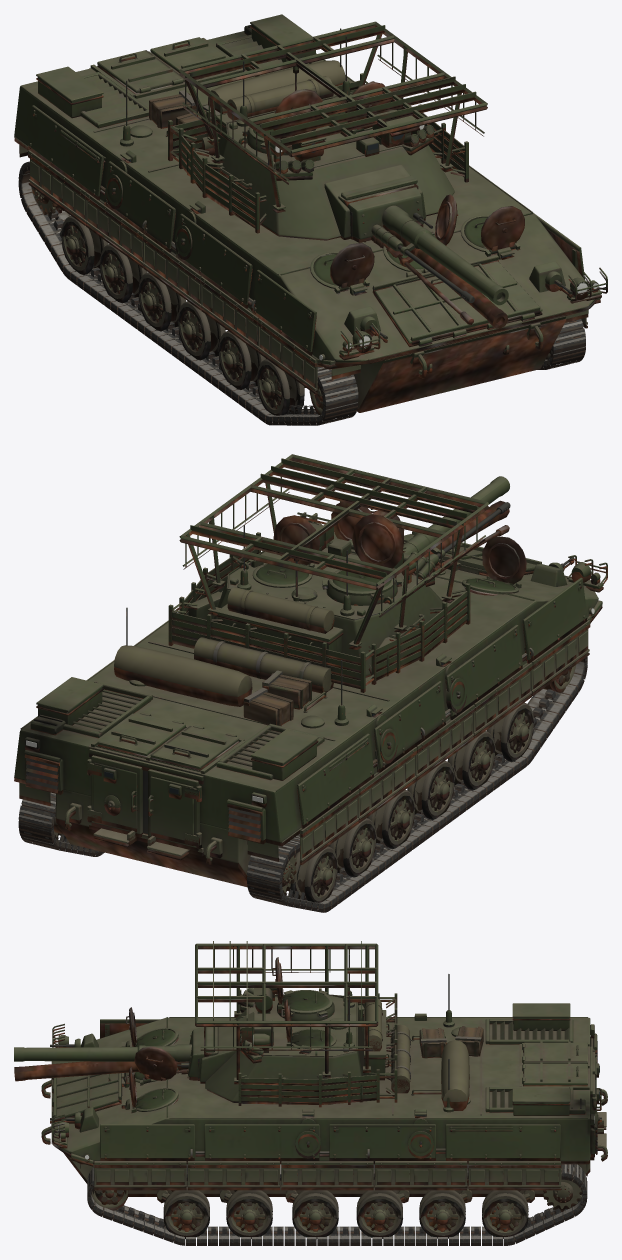
Rendered from bmp3.glb.
3 views of the same model, one above another, from view 1: azimuth 30°, elevation 25°; view 2: azimuth 150°, elevation 25°; view 3: azimuth 270°, elevation 25° (orthographic). The views are drawn at different scales.
Parts seen in each view (by area): view 1: hull_geo, hull_wreck, turret_wreck, turret_geo, side_screens, cope_cage, gun_geo, track_R, turret_screens, roof_door_R_geo, roof_door_L_geo, roadwheel_R1_geo (+6 smaller); view 2: hull_geo, hull_wreck, turret_wreck, side_screens, cope_cage, turret_geo, turret_screens, track_R, door_rear_R_geo, door_rear_L_geo, roof_door_R_geo, roof_door_L_geo (+9 smaller); view 3: hull_geo, hull_wreck, side_screens, turret_geo, turret_wreck, track_L, cope_cage, turret_screens, gun_geo, roof_door_L_geo, roof_door_R_geo, roadwheel_L3_geo (+10 smaller).
Boxes of the visible parts, x1,y1,x2,y2 form: hull_geo: [14, 14, 607, 408]; hull_wreck: [14, 25, 607, 425]; turret_wreck: [168, 25, 507, 328]; turret_geo: [187, 35, 454, 239]; side_screens: [27, 105, 584, 351]; cope_cage: [179, 21, 487, 209]; gun_geo: [338, 175, 508, 305]; track_R: [18, 161, 358, 421]; turret_screens: [168, 73, 468, 229]; roof_door_R_geo: [97, 50, 184, 93]; roof_door_L_geo: [150, 37, 235, 79]; roadwheel_R1_geo: [257, 359, 304, 413]; hull_geo: [14, 501, 607, 874]; hull_wreck: [14, 501, 607, 912]; turret_wreck: [168, 457, 509, 692]; side_screens: [297, 513, 587, 825]; cope_cage: [179, 454, 488, 647]; turret_geo: [188, 512, 443, 675]; turret_screens: [168, 532, 470, 689]; track_R: [247, 656, 587, 909]; door_rear_R_geo: [148, 769, 201, 847]; door_rear_L_geo: [87, 755, 142, 833]; roof_door_R_geo: [150, 725, 239, 768]; roof_door_L_geo: [97, 712, 185, 755]; hull_geo: [41, 974, 607, 1199]; hull_wreck: [41, 1007, 607, 1245]; side_screens: [100, 1019, 560, 1158]; turret_geo: [198, 954, 389, 1101]; turret_wreck: [14, 946, 397, 1107]; track_L: [87, 1164, 587, 1242]; cope_cage: [195, 941, 378, 1081]; turret_screens: [238, 988, 397, 1104]; gun_geo: [14, 1027, 218, 1077]; roof_door_L_geo: [522, 1062, 587, 1085]; roof_door_R_geo: [522, 1041, 587, 1063]; roadwheel_L3_geo: [292, 1190, 338, 1235].
Size of what is drawn, in the model's own units: 3.28 by 3.02 by 7.39.
6 materials, 4 textured.
